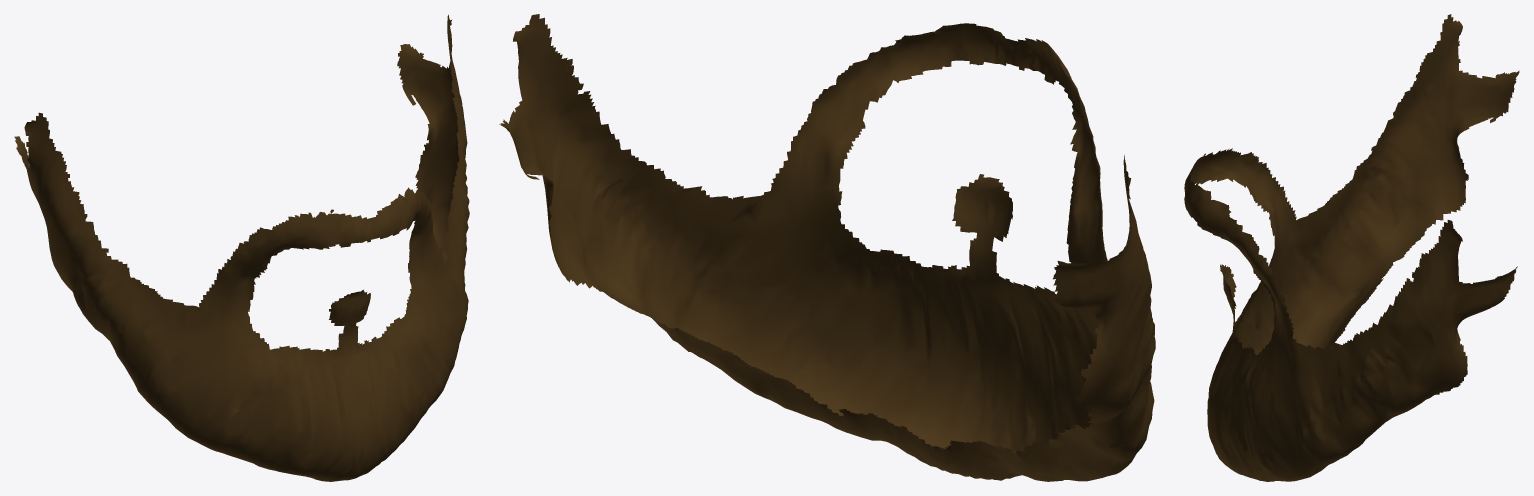
Rendered from Beard_2.fbx.
3 views of the same model, side by side, from view 1: azimuth 30°, elevation 25°; view 2: azimuth 150°, elevation 25°; view 3: azimuth 270°, elevation 25° (orthographic). The views are drawn at different scales.
Visible parts, largest first — view 1: 개체_1; view 2: 개체_1; view 3: 개체_1.
Part boxes in pixels (bbox=[...]): 개체_1: bbox=[14, 14, 469, 481]; 개체_1: bbox=[499, 14, 1155, 481]; 개체_1: bbox=[1184, 14, 1519, 481].
Bounding box in the file's own units: 30.36 × 23.15 × 20.14.
